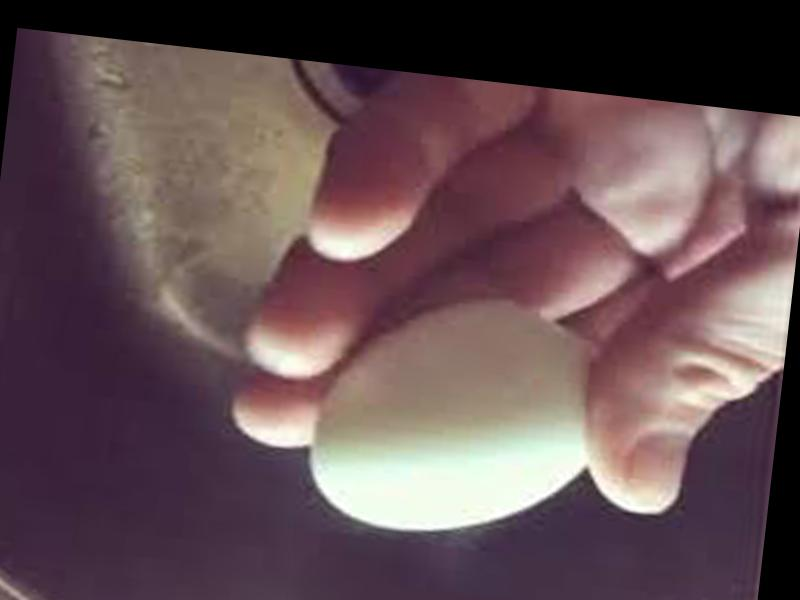Eggs: (309, 288, 609, 550)
